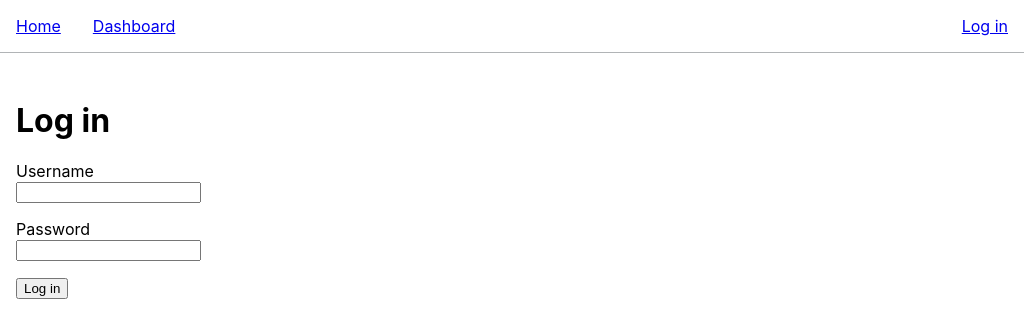
Test case: functional requirements › should allow a regular user to login on /login to become a logged in user with username uncinc and password letmein
Type "uncinc" into the field with id "username" at (109,193), box x1=16 y1=182 x2=201 y2=203
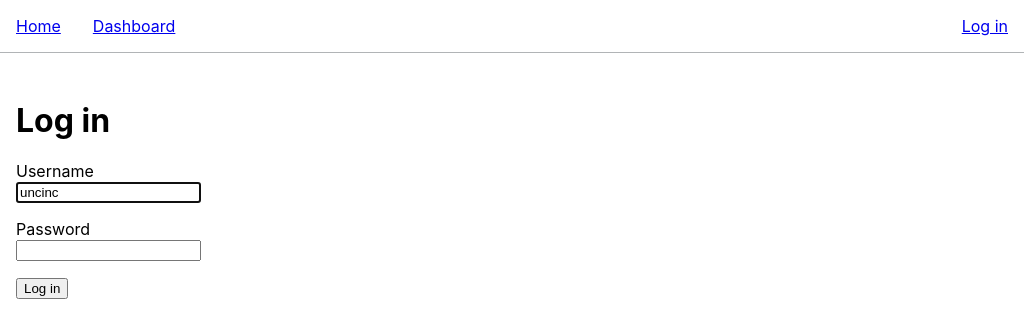
Type "letmein" into the password field labelled "Password" at (109,251), box x1=16 y1=240 x2=201 y2=261
Then press Enter
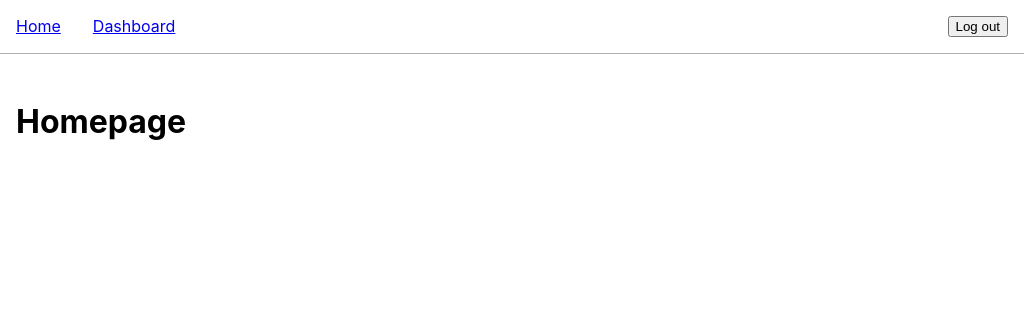
Open "/login"
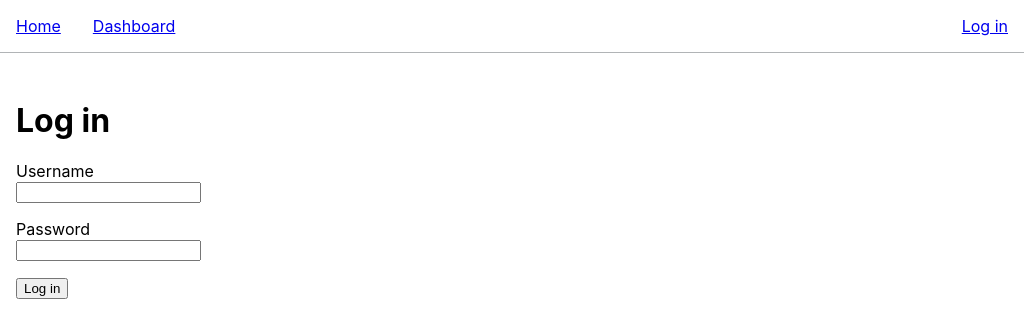
Type "uncinc" into the field with id "username" at (109,193), box x1=16 y1=182 x2=201 y2=203
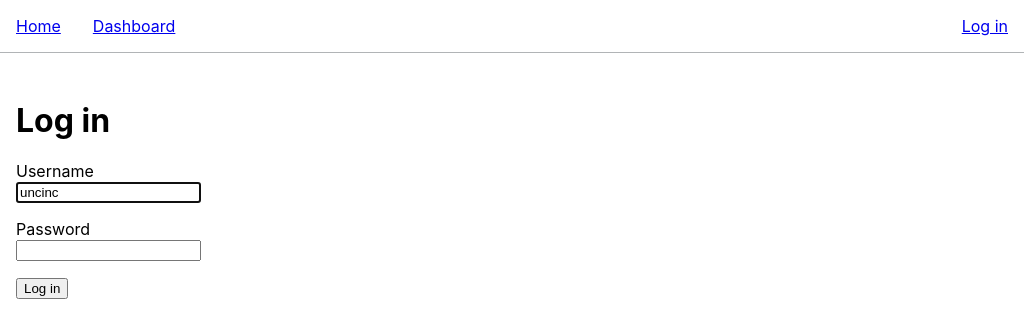
Type "letmein" into the password field labelled "Password" at (109,251), box x1=16 y1=240 x2=201 y2=261
Then press Enter
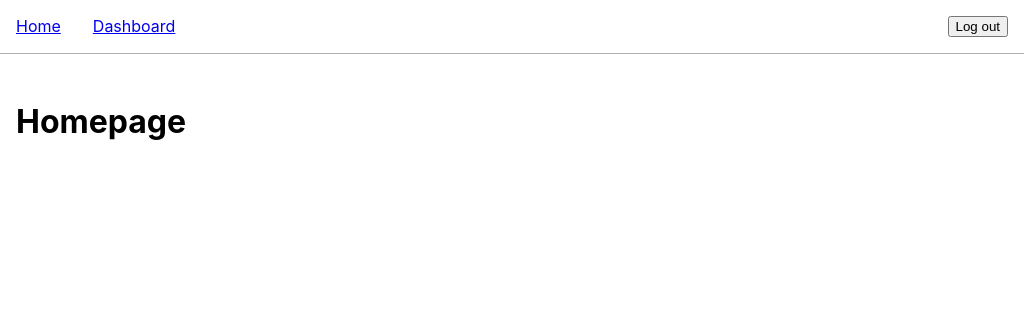
Open "/dashboard"
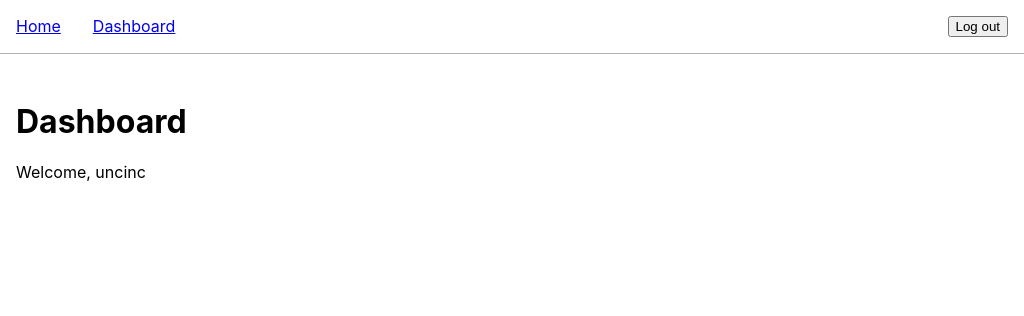
Expected: the text "Welcome, uncinc" is shown, x1=16 y1=162 x2=146 y2=182
